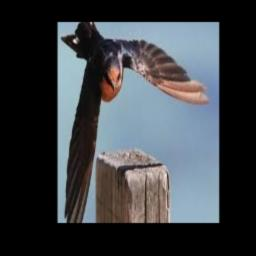Swallow: (61, 22, 209, 223)
